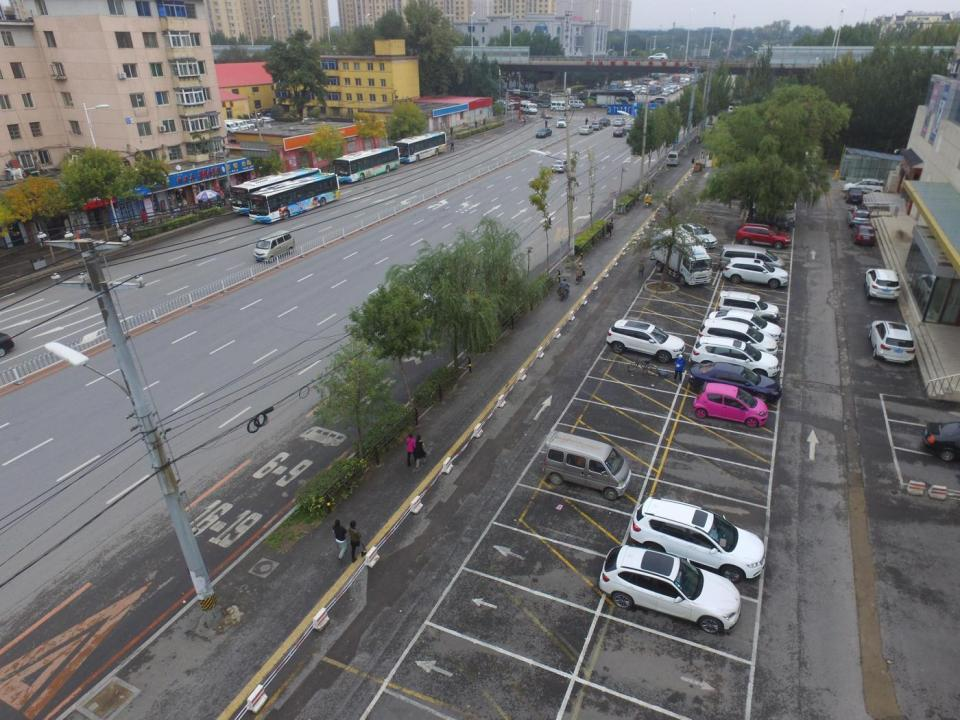bus: (249, 173, 340, 223), (230, 167, 322, 215), (332, 146, 400, 182), (393, 131, 448, 162)
car: (598, 545, 740, 634), (630, 496, 766, 582), (690, 362, 782, 405), (690, 335, 779, 377), (693, 381, 768, 428), (606, 319, 686, 362), (698, 319, 778, 356), (709, 308, 781, 342), (869, 319, 915, 365), (716, 291, 780, 323), (722, 257, 788, 287), (736, 222, 792, 249), (866, 268, 900, 300), (678, 223, 717, 248), (746, 213, 794, 231), (845, 179, 884, 194), (851, 223, 876, 245), (846, 205, 871, 226), (844, 187, 863, 204), (552, 160, 571, 173), (536, 127, 552, 138), (556, 116, 567, 128), (579, 126, 594, 134), (613, 128, 626, 137), (648, 53, 667, 59), (540, 109, 552, 118), (591, 122, 604, 130), (624, 122, 634, 132), (599, 118, 611, 126), (613, 118, 625, 125)
truck: (651, 228, 712, 286)
van: (542, 431, 630, 499), (720, 243, 784, 270), (254, 230, 296, 262), (753, 195, 796, 221), (666, 151, 680, 166), (551, 101, 570, 110), (568, 99, 584, 109), (728, 105, 739, 112)
